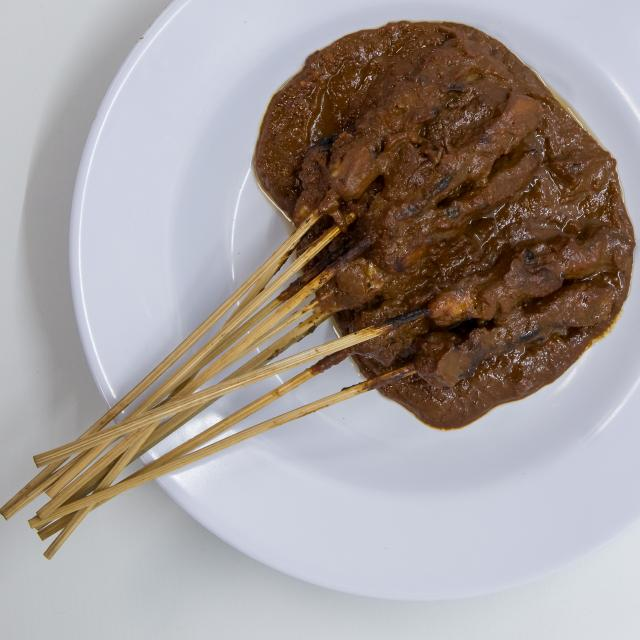Sate-Ayam: (207, 16, 624, 447)
